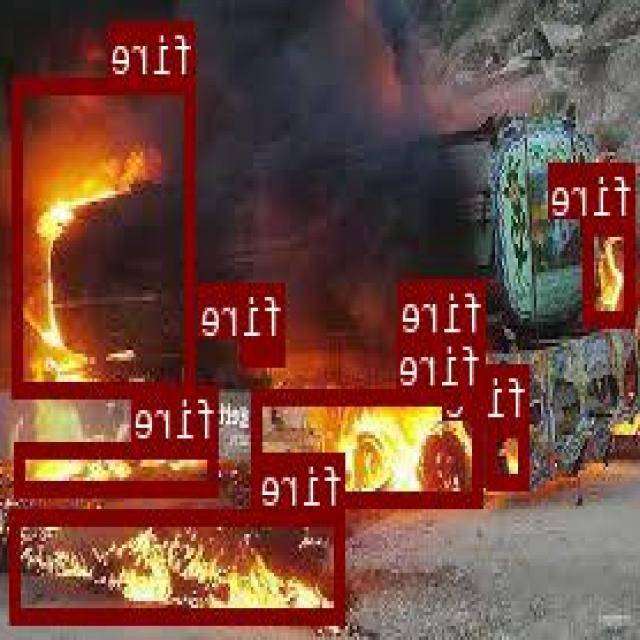fire: (15, 77, 197, 393), (12, 509, 346, 620), (253, 387, 484, 505), (18, 439, 219, 492), (586, 216, 637, 322), (488, 420, 530, 488), (442, 334, 488, 382), (242, 339, 286, 361)
